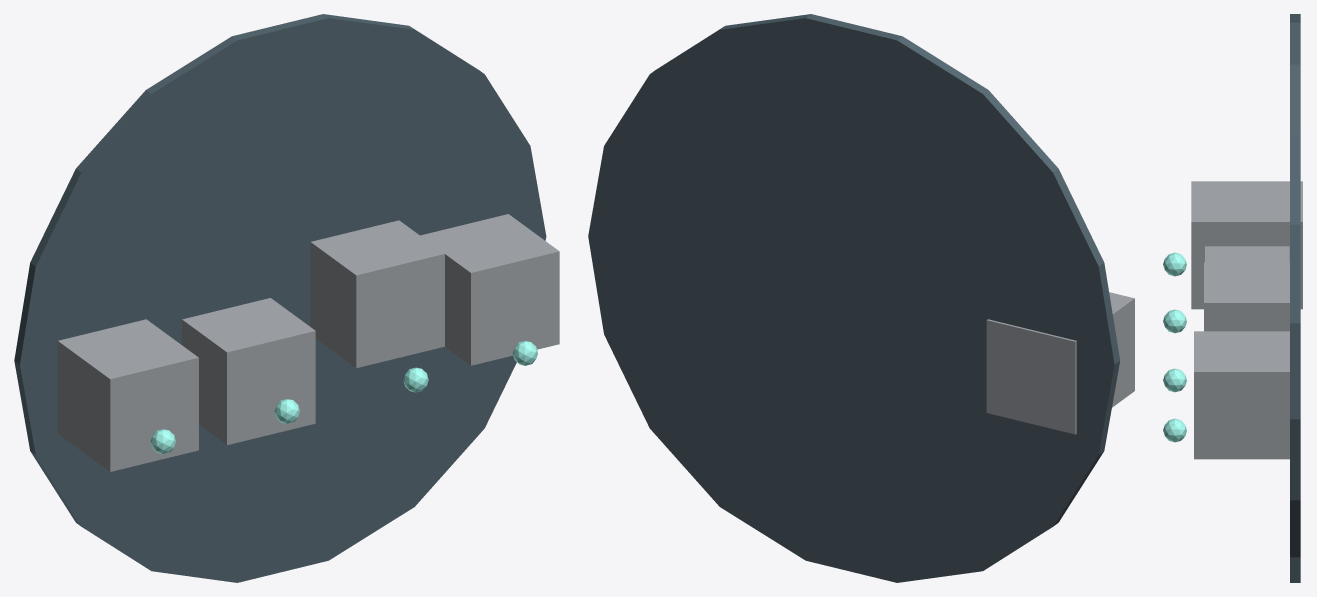
File: 04_event_hazard_cluster.glb
3 renders of one model, left to right at view 1: azimuth 30°, elevation 25°; view 2: azimuth 150°, elevation 25°; view 3: azimuth 270°, elevation 25°, orthographic. The views are drawn at different scales.
Parts seen in each view (by area): view 1: scatter_base, tech_crate_0, tech_crate_2, tech_crate_3, tech_crate_1; view 2: scatter_base, tech_crate_0; view 3: tech_crate_3, tech_crate_0, scatter_base, tech_crate_2, tech_crate_1, status_light_3, status_light_0, status_light_1, status_light_2.
Part boxes in pixels (bbox=[...]): scatter_base: bbox=[14, 14, 546, 582]; tech_crate_0: bbox=[57, 319, 198, 471]; tech_crate_2: bbox=[310, 220, 444, 367]; tech_crate_3: bbox=[420, 214, 559, 365]; tech_crate_1: bbox=[182, 298, 315, 445]; scatter_base: bbox=[588, 14, 1120, 582]; tech_crate_0: bbox=[986, 292, 1134, 434]; tech_crate_3: bbox=[1194, 331, 1289, 459]; tech_crate_0: bbox=[1191, 181, 1302, 309]; scatter_base: bbox=[1290, 14, 1300, 582]; tech_crate_2: bbox=[1204, 262, 1289, 331]; tech_crate_1: bbox=[1205, 246, 1289, 262]; status_light_3: bbox=[1163, 418, 1186, 442]; status_light_0: bbox=[1163, 252, 1186, 276]; status_light_1: bbox=[1163, 309, 1186, 333]; status_light_2: bbox=[1163, 368, 1186, 392].
Bounding box in the file's own units: 1.9 × 1.87 × 0.4655.
